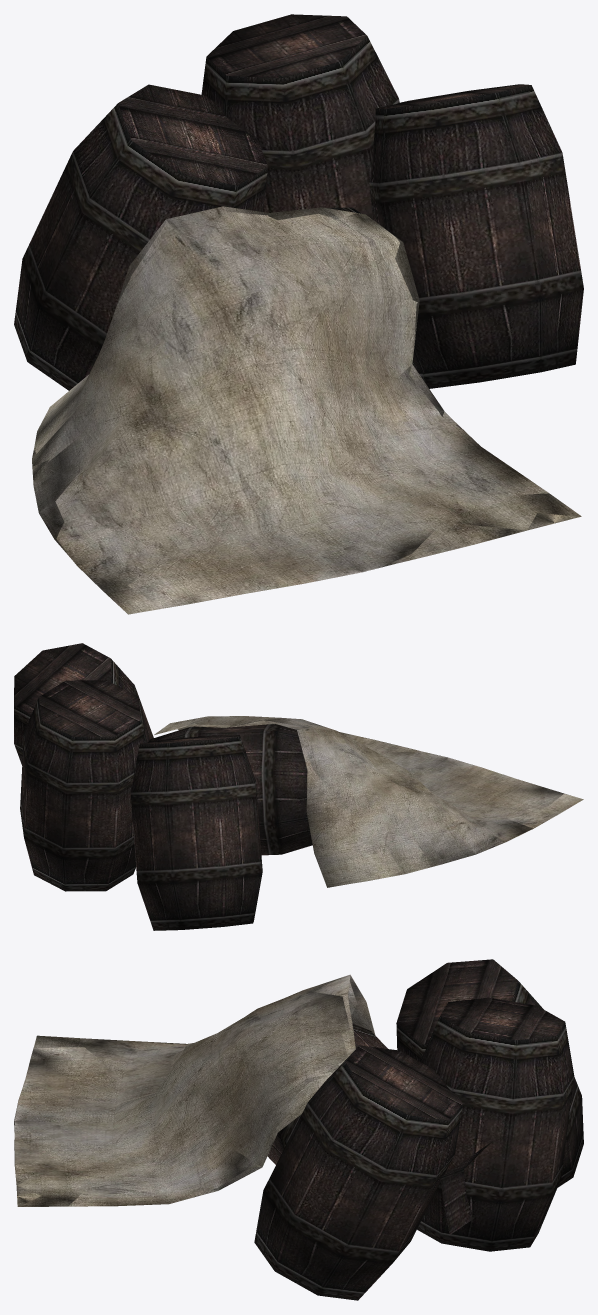
File: KM_VOB_BARRELTABLE_03.glb
3 views of the same model, one above another, from view 1: azimuth 30°, elevation 25°; view 2: azimuth 150°, elevation 25°; view 3: azimuth 270°, elevation 25° (orthographic). The views are drawn at different scales.
Parts seen in each view (by area): view 1: Mesh; view 2: Mesh; view 3: Mesh.
Boxes of the visible parts, x1,y1,x2,y2 form: Mesh: (14,14,583,614); Mesh: (14,643,583,930); Mesh: (14,959,583,1300).
Bounding box in the file's own units: 2.89 × 1.36 × 2.82.
Materials: 2 (2 with a texture image).
